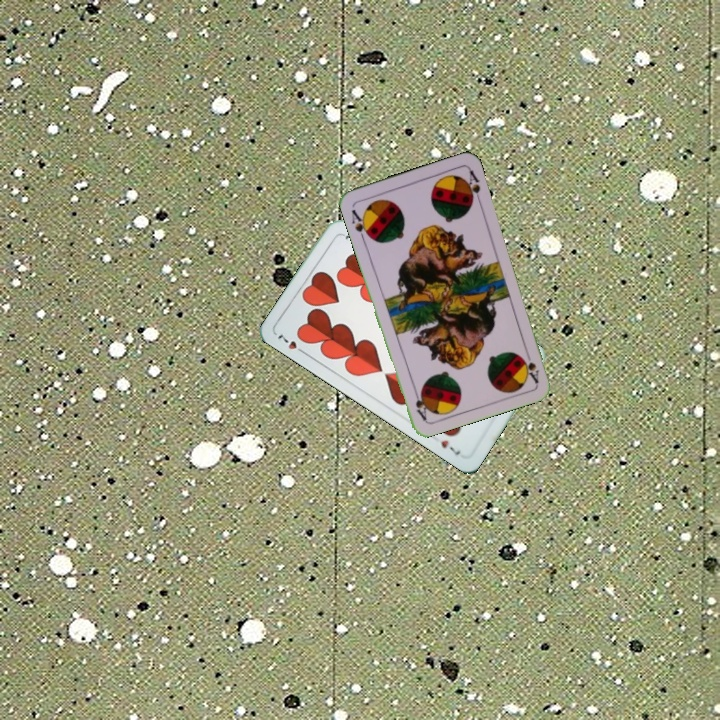H7: (273, 329, 309, 357)
SA: (347, 205, 373, 243), (518, 346, 542, 385)
